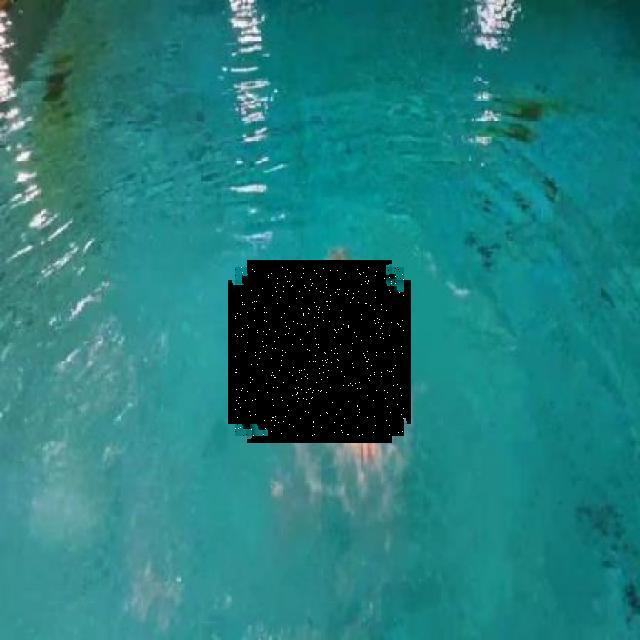Out of Water: (235, 267, 404, 436)
